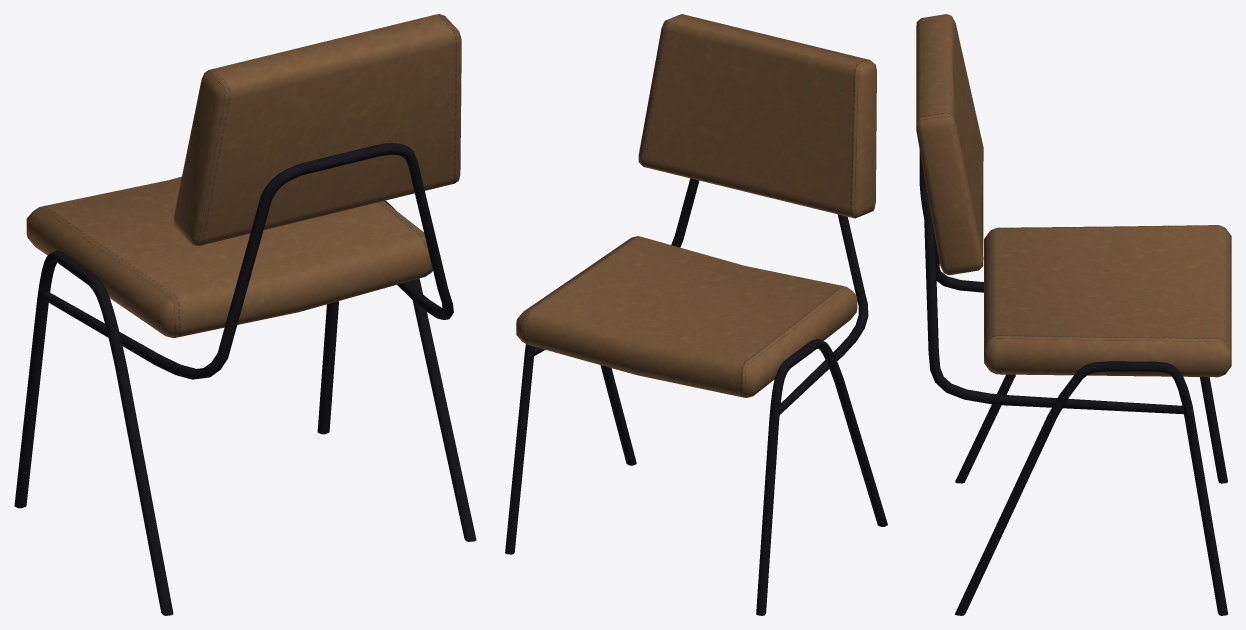
Rendered from chair.gltf.
The picture shows the model from 3 angles, left to right: view 1: azimuth 30°, elevation 25°; view 2: azimuth 150°, elevation 25°; view 3: azimuth 270°, elevation 25°; orthographic projection. The views are drawn at different scales.
Parts seen in each view (by area): view 1: Chair; view 2: Chair; view 3: Chair.
Boxes of the visible parts, x1,y1,x2,y2 form: Chair: [14, 14, 476, 615]; Chair: [505, 14, 887, 615]; Chair: [916, 14, 1231, 615].
Size of the model in its own units: 0.6133 by 1.01 by 0.5976.
